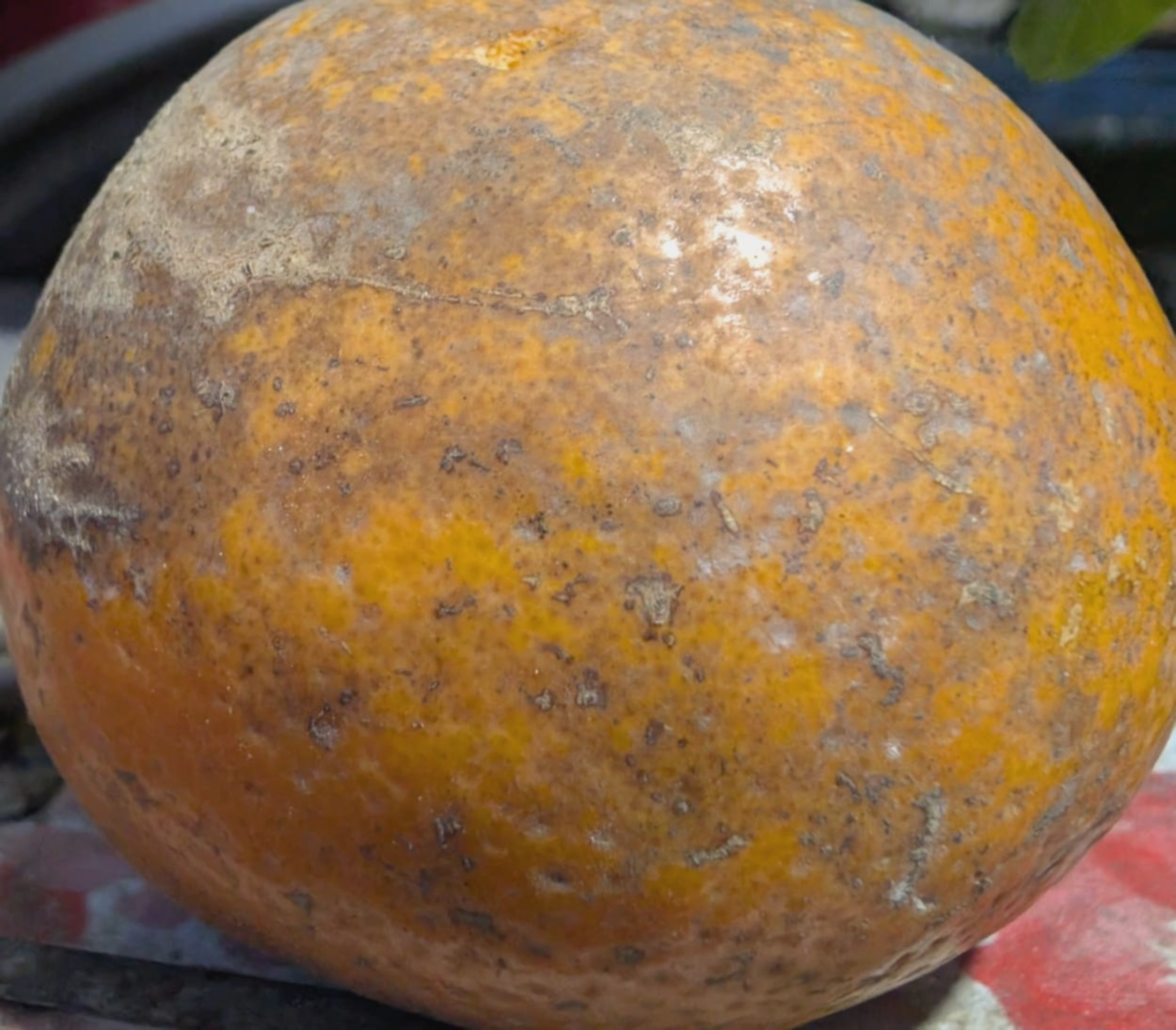orange: (274, 73, 1095, 846)
